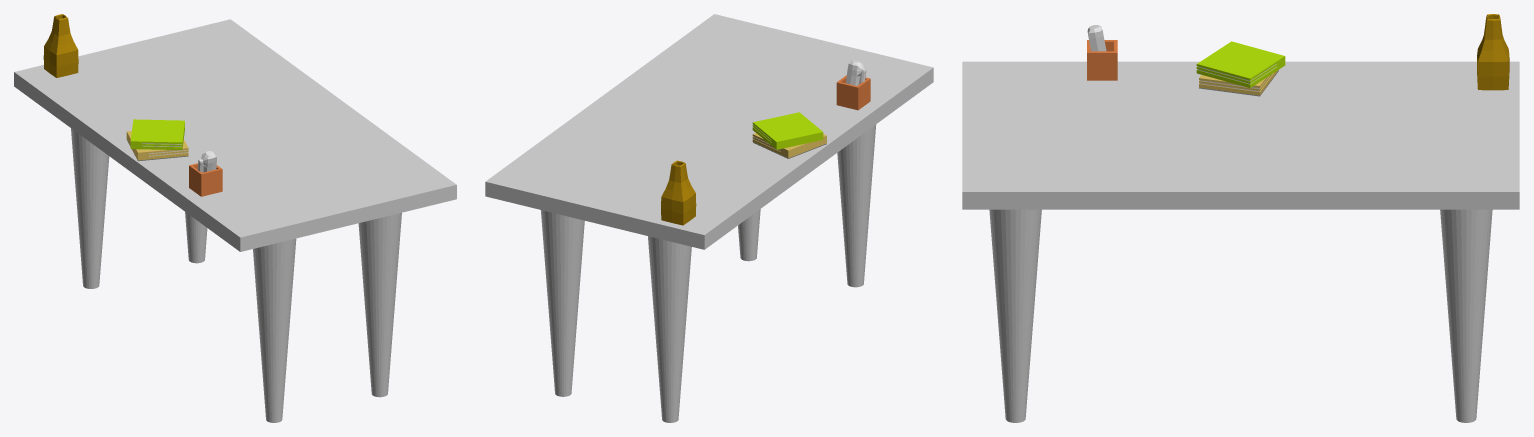
Rendered from Tble.fbx.
The picture shows the model from 3 angles, left to right: view 1: azimuth 30°, elevation 25°; view 2: azimuth 150°, elevation 25°; view 3: azimuth 270°, elevation 25°; orthographic projection. The views are drawn at different scales.
Visible parts, largest first — view 1: Cube.001, Cylinder, Cylinder.001, Cylinder.002, Cube, Cube.005, Cube.002, Cylinder.003, Cube.006; view 2: Cube.001, Cylinder.002, Cylinder.003, Cylinder.001, Cube.005, Cube, Cube.002, Cylinder, Cube.006, Cube.003; view 3: Cube.001, Cylinder, Cylinder.003, Cube.005, Cube, Cube.002, Cube.006.
Boxes of the visible parts, left/top/right/bottom form: Cube.001: left=14, top=19, right=456, bottom=251; Cylinder: left=358, top=212, right=401, bottom=397; Cylinder.001: left=253, top=238, right=296, bottom=422; Cylinder.002: left=71, top=128, right=109, bottom=288; Cube: left=43, top=14, right=78, bottom=77; Cube.005: left=130, top=119, right=184, bottom=150; Cube.002: left=189, top=163, right=222, bottom=196; Cylinder.003: left=185, top=212, right=207, bottom=263; Cube.006: left=126, top=131, right=188, bottom=160; Cube.001: left=485, top=14, right=933, bottom=249; Cylinder.002: left=648, top=236, right=691, bottom=422; Cylinder.003: left=541, top=210, right=584, bottom=396; Cylinder.001: left=837, top=124, right=876, bottom=287; Cube.005: left=752, top=112, right=823, bottom=149; Cube: left=661, top=160, right=696, bottom=225; Cube.002: left=836, top=75, right=870, bottom=110; Cylinder: left=738, top=209, right=760, bottom=261; Cube.006: left=752, top=133, right=826, bottom=158; Cube.003: left=846, top=60, right=866, bottom=85; Cube.001: left=962, top=61, right=1519, bottom=209; Cylinder: left=989, top=209, right=1041, bottom=422; Cylinder.003: left=1440, top=209, right=1492, bottom=422; Cube.005: left=1196, top=41, right=1285, bottom=87; Cube: left=1477, top=14, right=1509, bottom=90; Cube.002: left=1087, top=40, right=1117, bottom=80; Cube.006: left=1199, top=70, right=1278, bottom=95.
Bounding box in the file's own units: 411 × 481 × 742.
